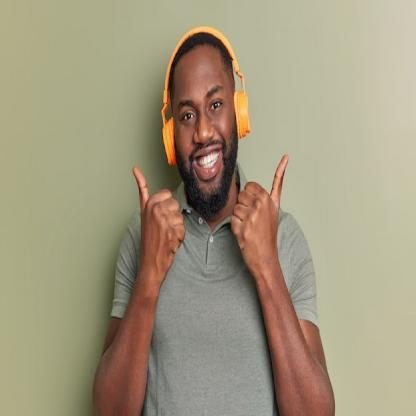thumb_up: (229, 152, 290, 270), (131, 162, 188, 286)
